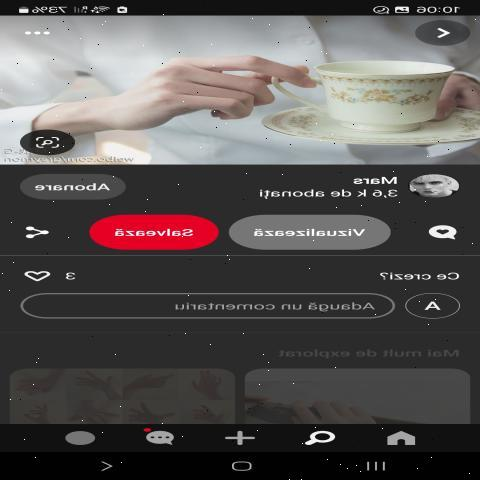Hands: (13, 26, 317, 144)
